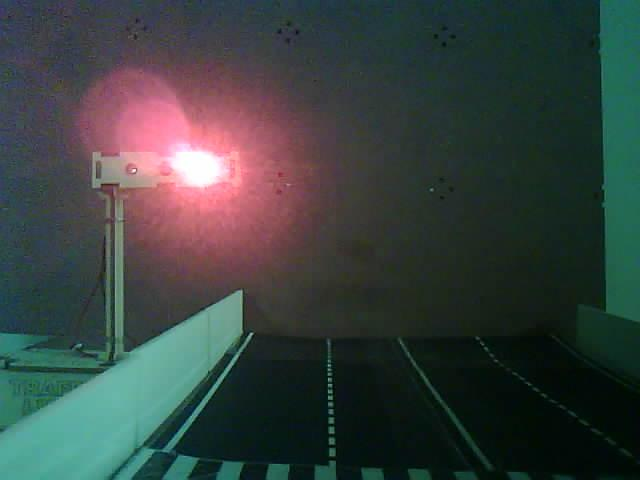crosswalk: (67, 417, 631, 480)
red: (31, 73, 283, 374)
